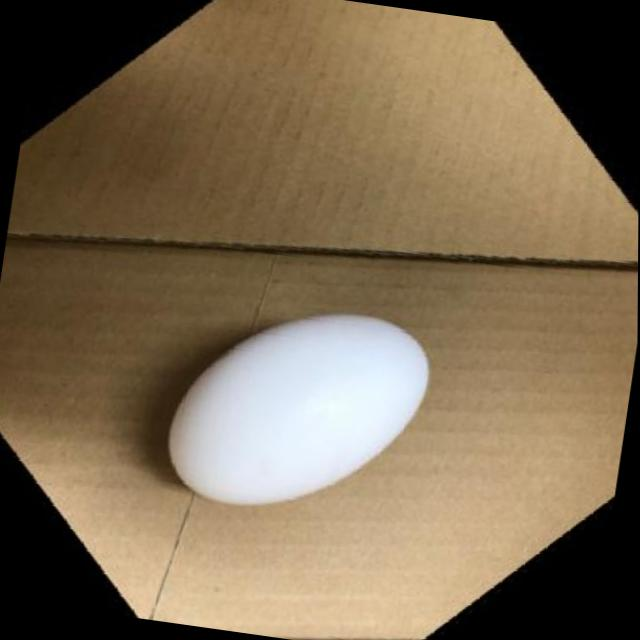egg: (152, 290, 442, 538)
